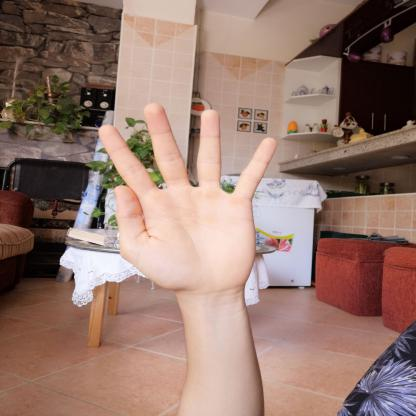SHEEN: (82, 94, 293, 304)
